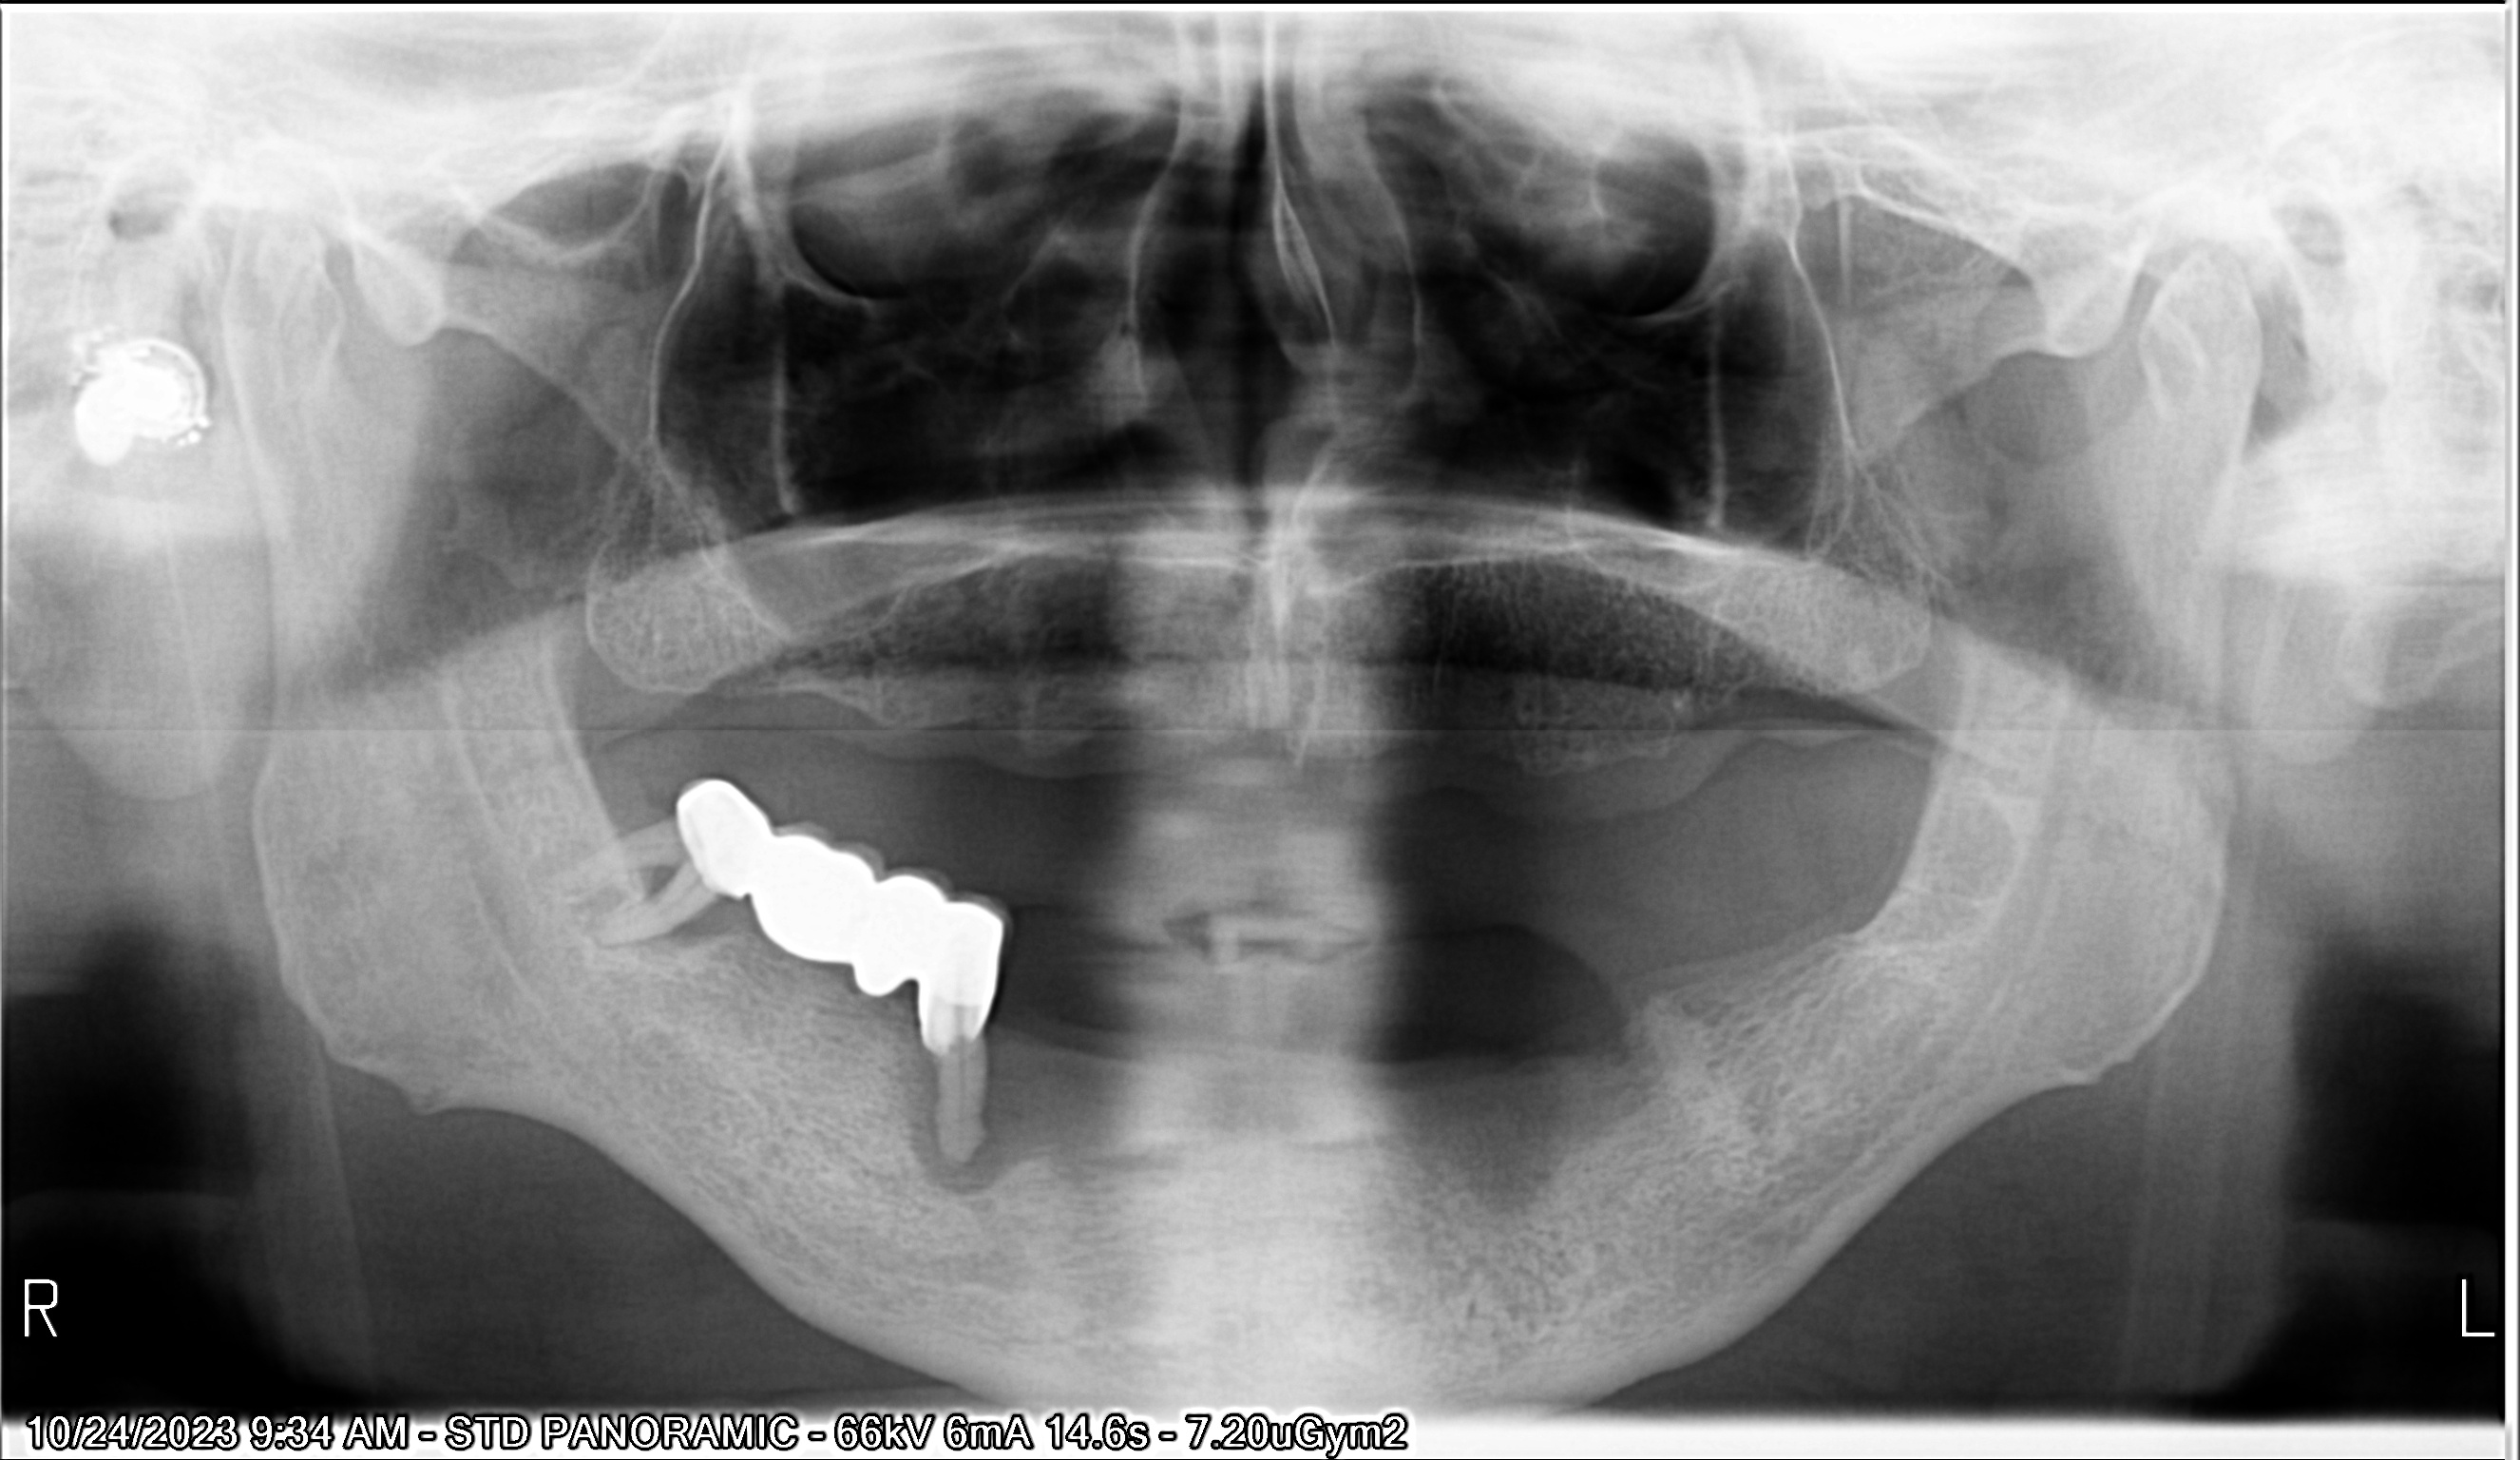API: (571, 923, 629, 961)
BON: (865, 1012, 964, 1208), (630, 888, 729, 970)
FUR: (610, 841, 686, 918)
PRR: (641, 744, 1049, 1046)
